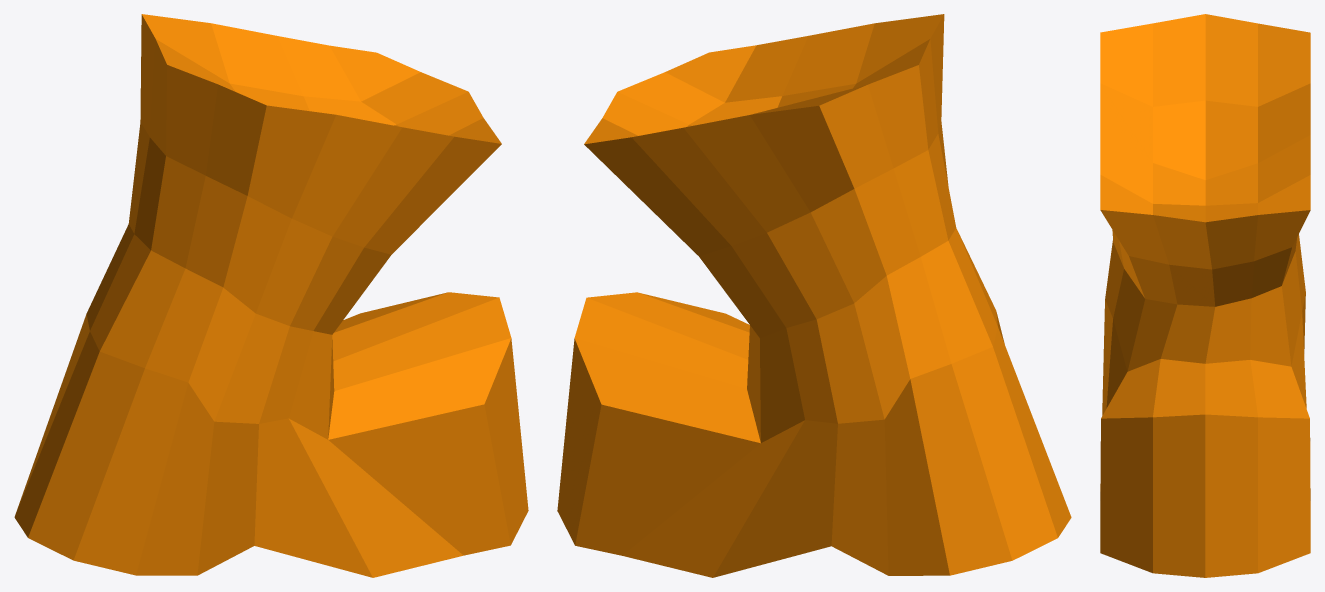
The model's file is MoveSpd.fbx.
3 views of the same model, side by side, from view 1: azimuth 30°, elevation 25°; view 2: azimuth 150°, elevation 25°; view 3: azimuth 270°, elevation 25° (orthographic). The views are drawn at different scales.
Visible parts, largest first — view 1: MovementSpeed.Full; view 2: MovementSpeed.Full; view 3: MovementSpeed.Full.
Part boxes in pixels (x1,y1,x2,y2): MovementSpeed.Full: (14,14,528,577); MovementSpeed.Full: (557,14,1071,577); MovementSpeed.Full: (1100,14,1310,577).
Bounding box in the file's own units: 399 × 400 × 180.
